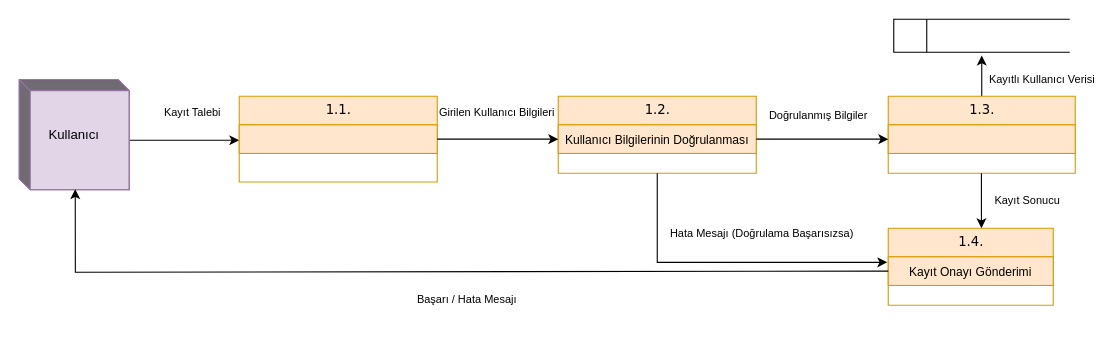
Image size: 1114x347. Some labels were removed from this diagram. The shapes that lost their labels are listed below. From the top down, each one's box as (x1, y1, x2, y2) in pixels, then its label:
(893, 18, 1070, 52): D1 Kullanıcı Kayıtları
(238, 124, 437, 153): Kullanıcı Bilgisi Girişi
(887, 124, 1075, 153): Kullanıcı Kaydının Oluşturulması
